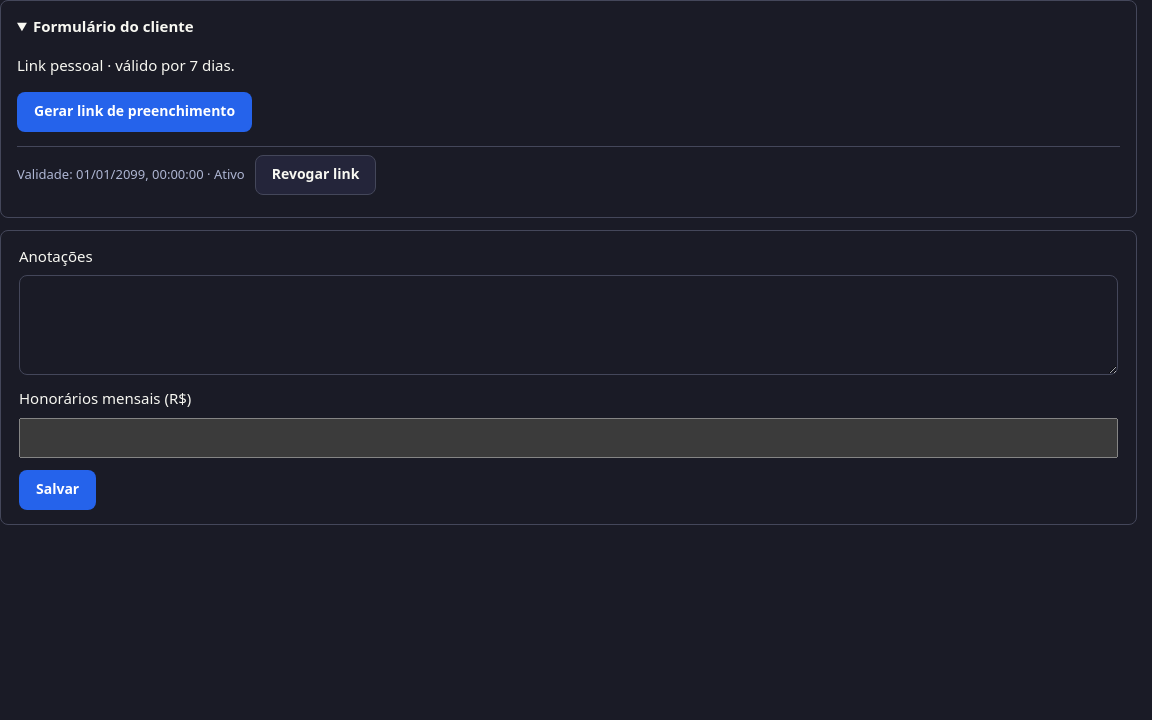
Test: gerar outro link exige confirmar que o anterior deixará de funcionar
Click the button "Gerar link de preenchimento": (135, 112) [17,92,252,132]
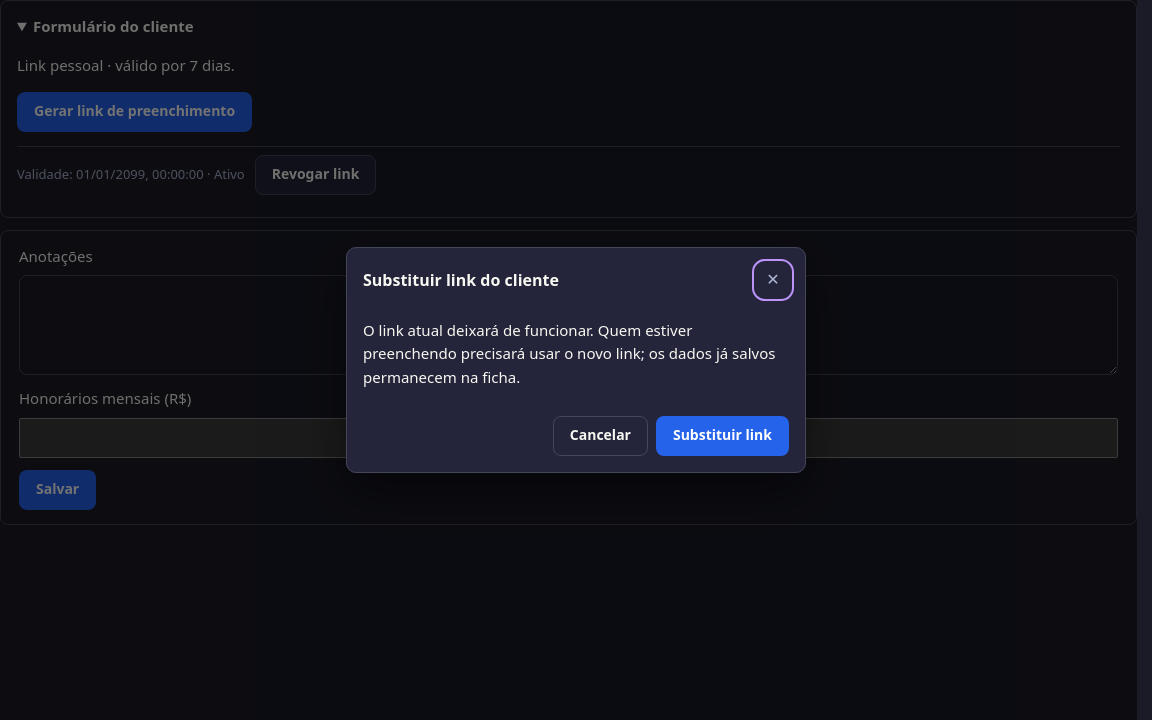
Expected: the dialog shows "O link atual deixará de funcionar", [363,320,779,387]
Click the button "Cancelar": (600, 436) [553,416,648,456]
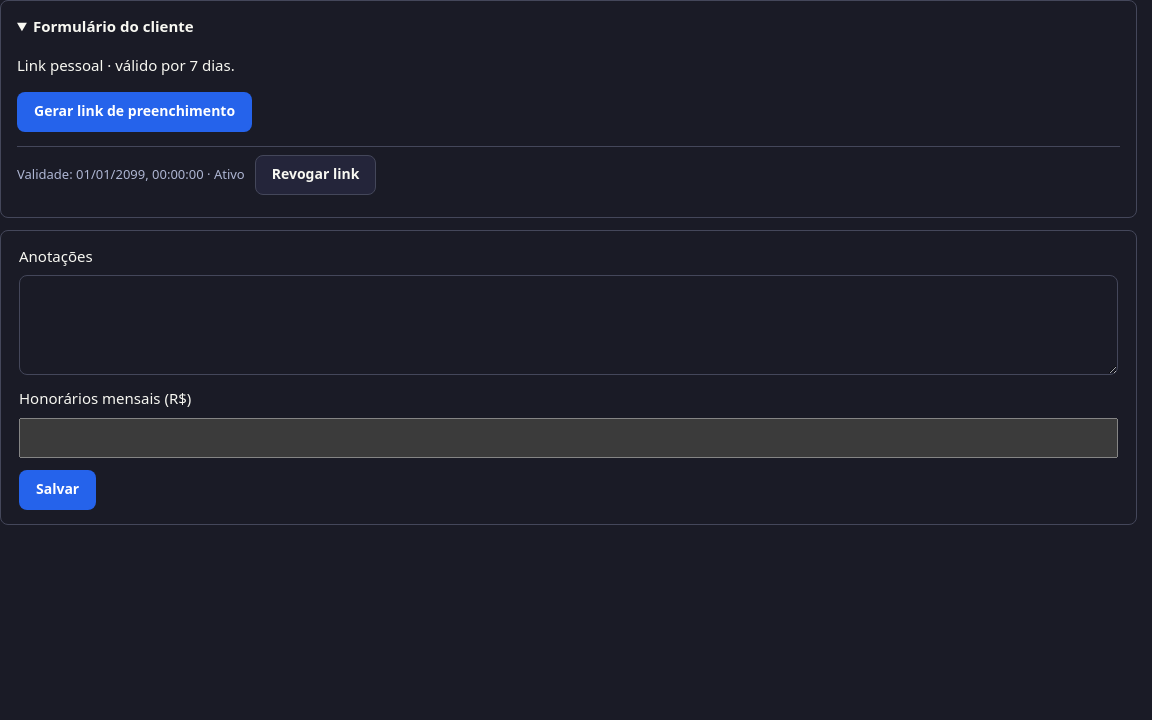
Click the button "Gerar link de preenchimento": (135, 112) [17,92,252,132]
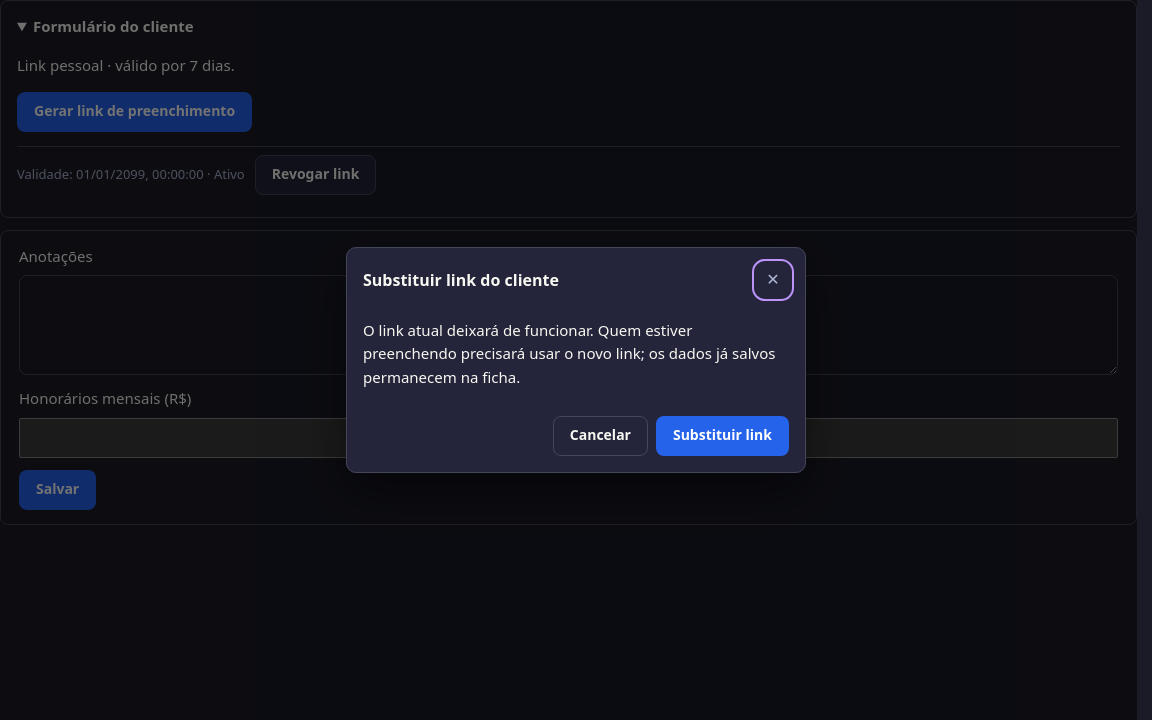
Click the button "Substituir link": (722, 436) [656,416,789,456]
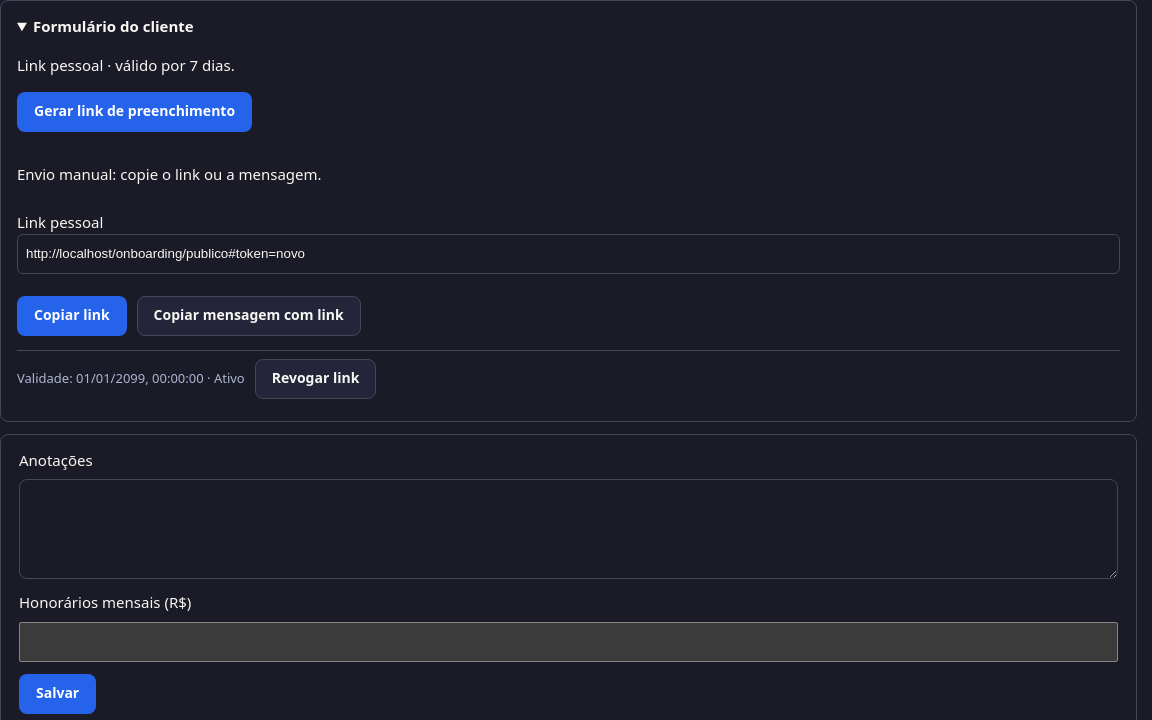
Expected: the field labelled "Link pessoal" is shown, [17,234,1120,274]
